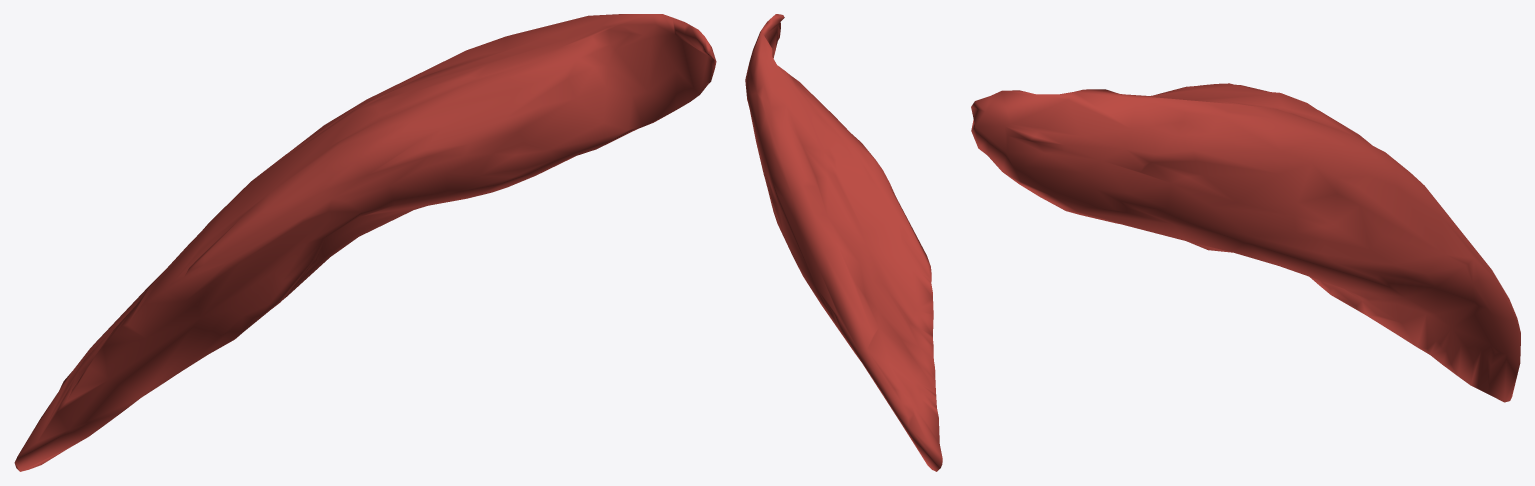
The model's file is musculos-teres-minor-muscle-l.glb.
3 views of the same model, side by side, from view 1: azimuth 30°, elevation 25°; view 2: azimuth 150°, elevation 25°; view 3: azimuth 270°, elevation 25° (orthographic). The views are drawn at different scales.
Parts seen in each view (by area): view 1: Teres minor muscle.l; view 2: Teres minor muscle.l; view 3: Teres minor muscle.l.
Part boxes in pixels (left/top/right/bottom): Teres minor muscle.l: left=14, top=14, right=716, bottom=471; Teres minor muscle.l: left=745, top=14, right=942, bottom=471; Teres minor muscle.l: left=971, top=83, right=1520, bottom=402.
Size of the model in its own units: 0.0961 by 0.0895 by 0.0758.
